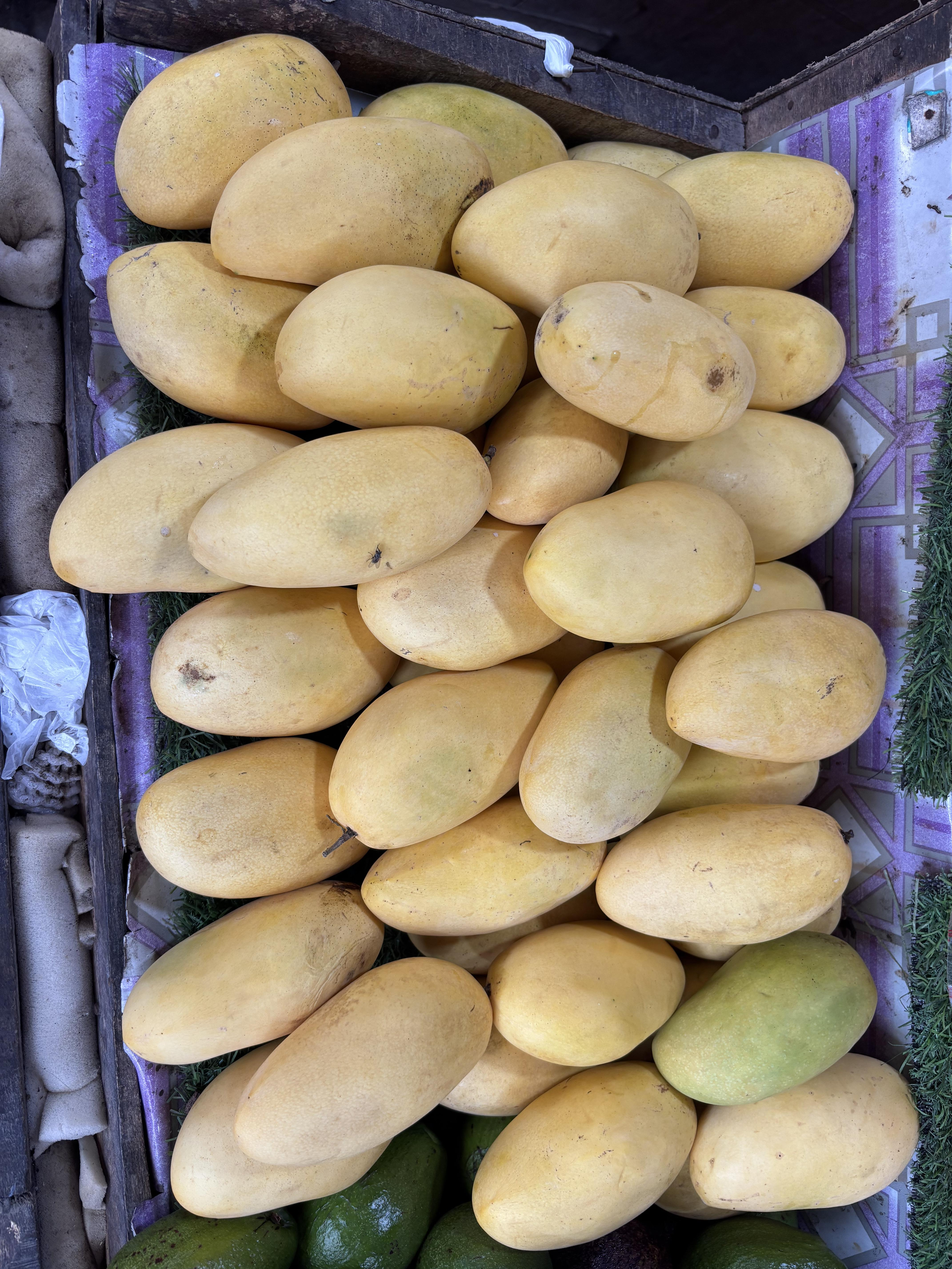mango: (234, 958, 492, 1166), (188, 426, 491, 588), (123, 880, 383, 1065), (330, 658, 556, 849), (472, 1061, 696, 1251), (275, 265, 527, 433), (653, 931, 877, 1105), (524, 481, 754, 643), (597, 804, 852, 945), (536, 281, 755, 442), (666, 609, 886, 763), (487, 920, 684, 1067)
occluded: (211, 117, 493, 286), (115, 34, 351, 229), (49, 423, 303, 593), (107, 242, 330, 429), (451, 160, 699, 318), (171, 1040, 389, 1218), (136, 737, 368, 900), (151, 587, 398, 737), (616, 409, 854, 563), (690, 1053, 918, 1212), (362, 796, 606, 936), (519, 647, 691, 844), (357, 516, 565, 671), (660, 151, 853, 290), (362, 83, 568, 187), (484, 378, 628, 525), (685, 286, 846, 412), (409, 883, 604, 976), (440, 1026, 586, 1117), (646, 745, 819, 820), (722, 561, 825, 624), (656, 1159, 731, 1220), (567, 141, 689, 178), (531, 632, 606, 683), (656, 627, 717, 661), (671, 940, 744, 962), (800, 898, 842, 934), (389, 659, 437, 686)
